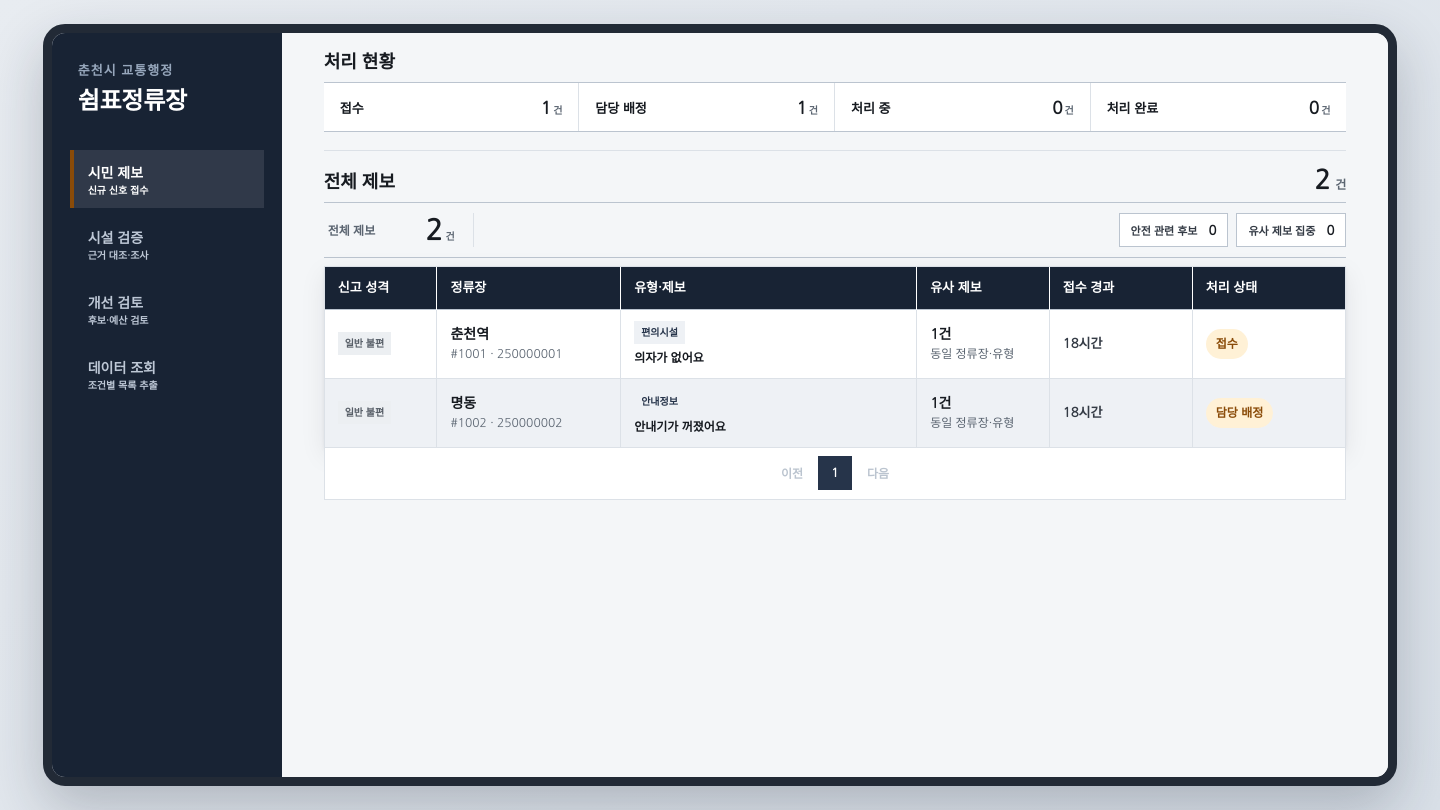
Test: <Dashboard> — (a) 탭 구조 › 처리 단계를 누르면 해당 단계의 제보만 목록에 표시한다
Click the button "접수 1 건". click: (452,107)
box: [324,83,579,131]
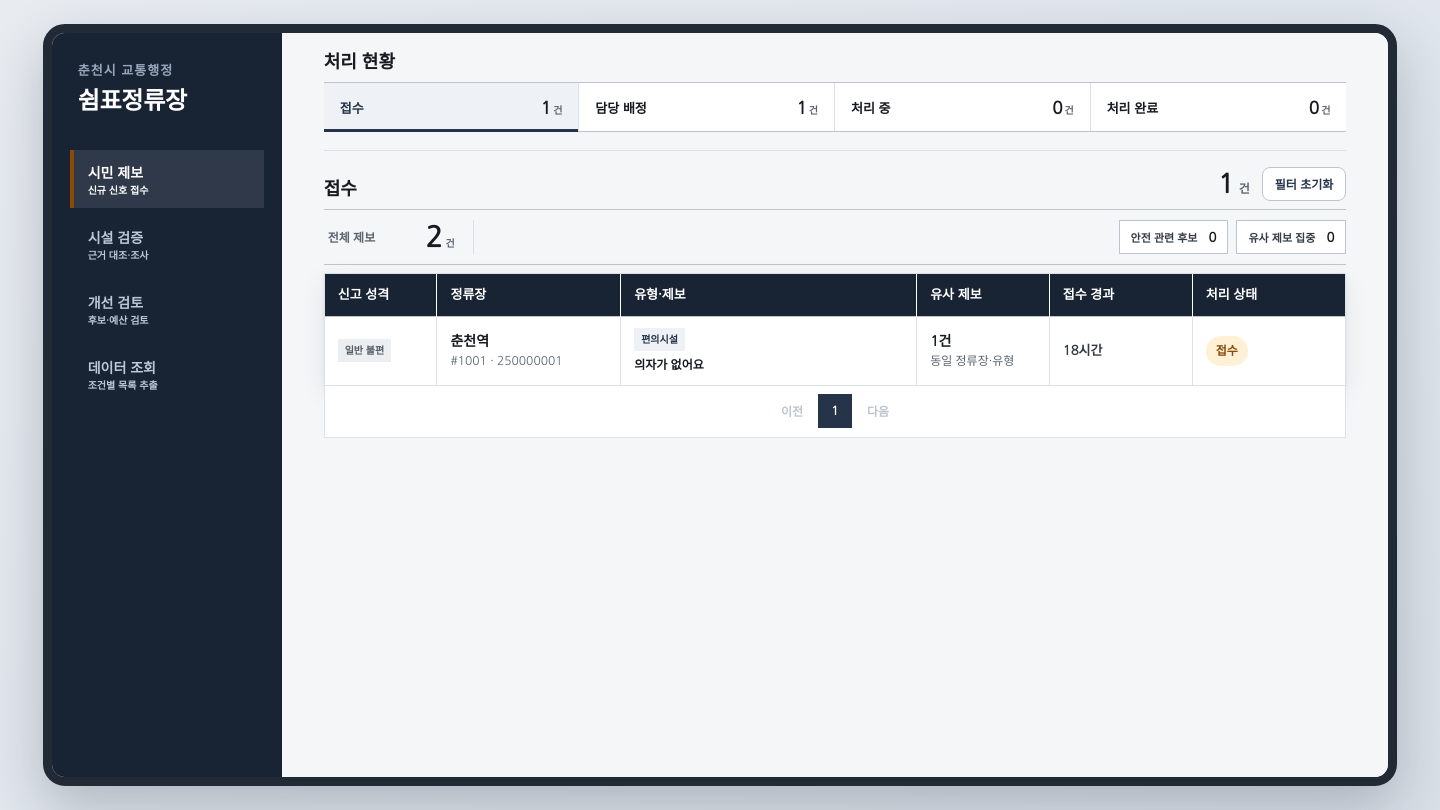
Expected: the text "의자가 없어요" is shown, [634,359,704,371]
Expected: the text "안내기가 꺼졌어요" is gone
